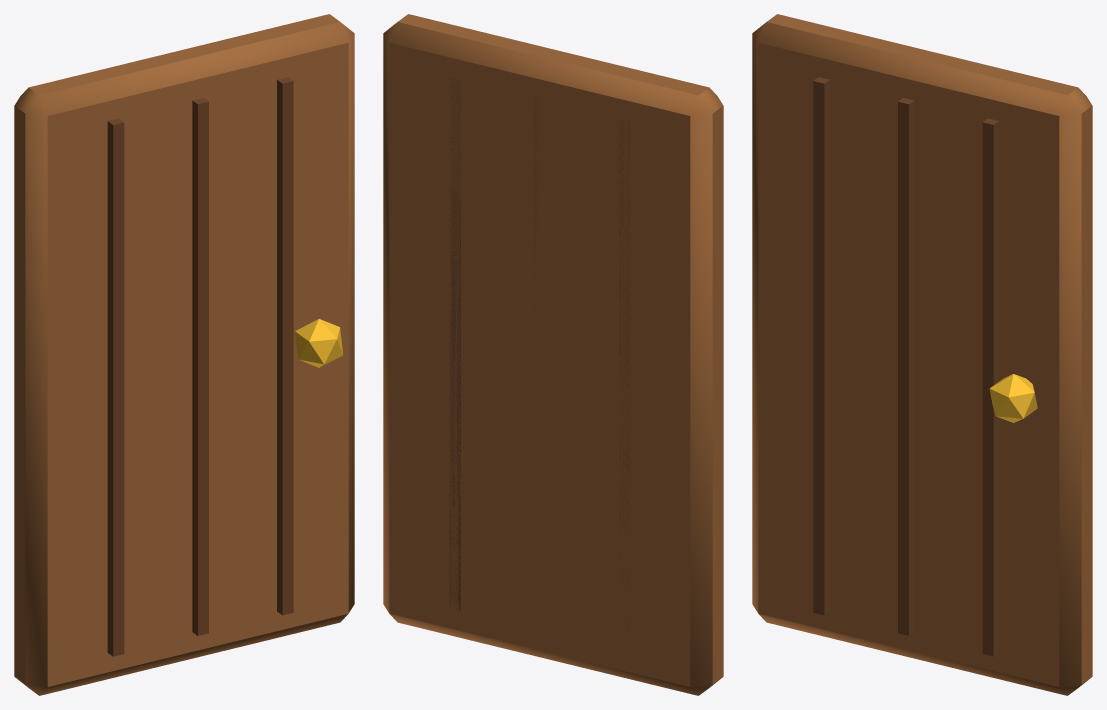
Rendered from qdoor.fbx.
3 views of the same model, side by side, from view 1: azimuth 30°, elevation 25°; view 2: azimuth 150°, elevation 25°; view 3: azimuth 330°, elevation 25° (orthographic).
Parts seen in each view (by area): view 1: qdoor; view 2: qdoor; view 3: qdoor.
Boxes of the visible parts, x1,y1,x2,y2 form: qdoor: (14, 14, 354, 695); qdoor: (383, 14, 723, 695); qdoor: (752, 14, 1092, 695).
Bounding box in the file's own units: 0.35 × 0.61 × 0.0863.
